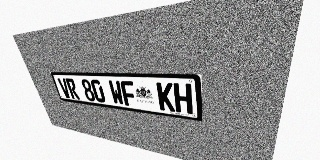0: (90, 79, 106, 103)
8: (80, 79, 96, 102)
F: (120, 81, 137, 107)
H: (173, 83, 193, 114)
K: (156, 82, 175, 112)
R: (65, 78, 80, 100)
V: (57, 78, 72, 99)
W: (108, 80, 125, 105)
